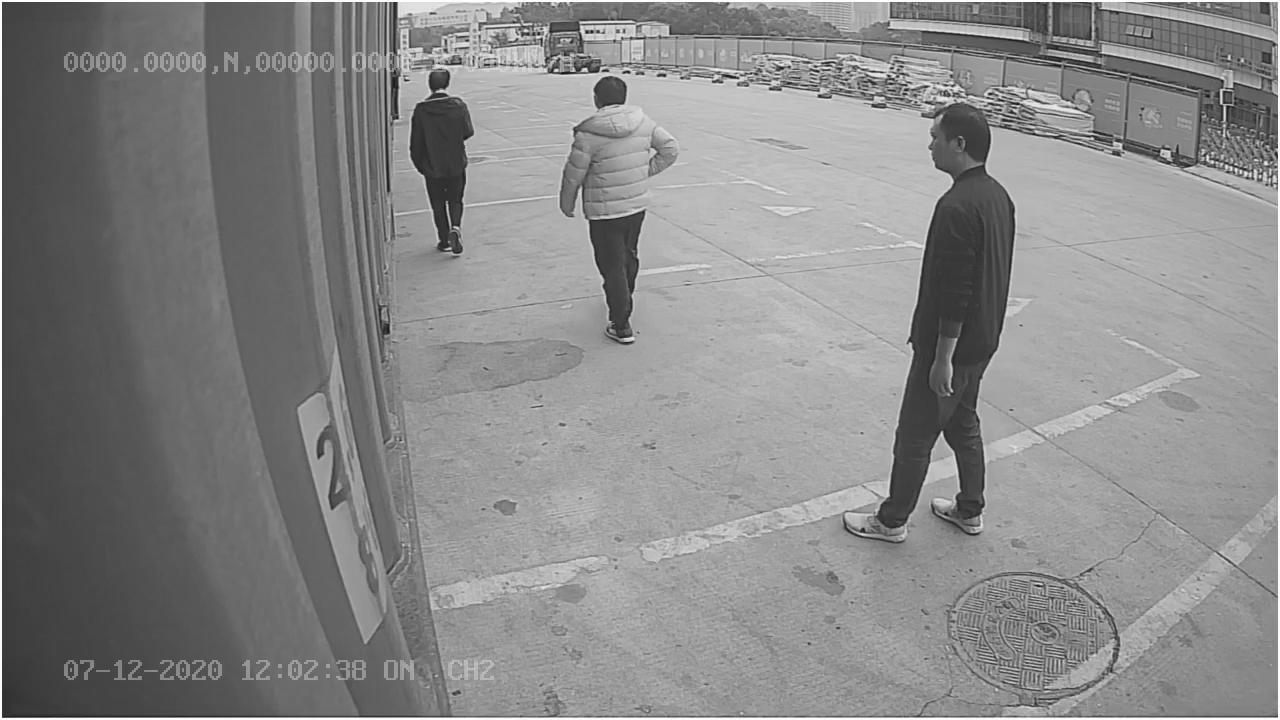person: (838, 101, 1012, 540), (557, 71, 680, 344)
